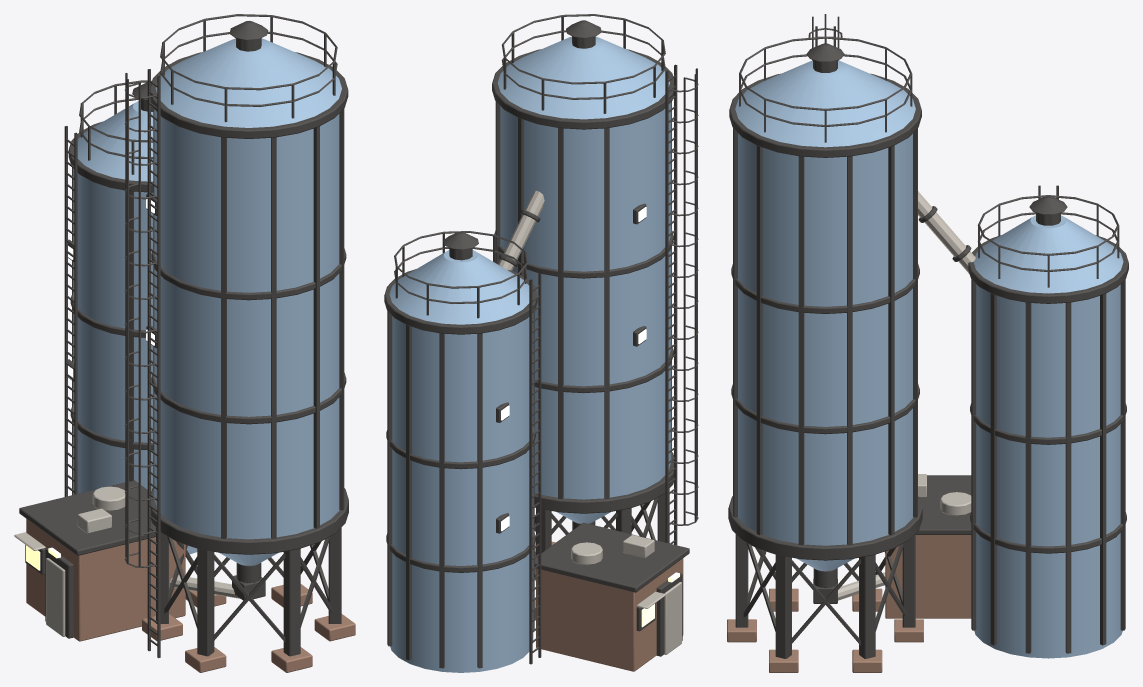
Rendered from silo.glb.
The picture shows the model from 3 angles, left to right: view 1: azimuth 30°, elevation 25°; view 2: azimuth 150°, elevation 25°; view 3: azimuth 270°, elevation 25°; orthographic projection. The views are drawn at different scales.
Visible parts, largest first — view 1: silo; view 2: silo; view 3: silo.
Part boxes in pixels (x1=…): silo: x1=14, y1=14, x2=355, y2=672; silo: x1=384, y1=14, x2=698, y2=672; silo: x1=727, y1=14, x2=1128, y2=672.
Size of the model in its own units: 6.79 by 16.39 by 10.1.
